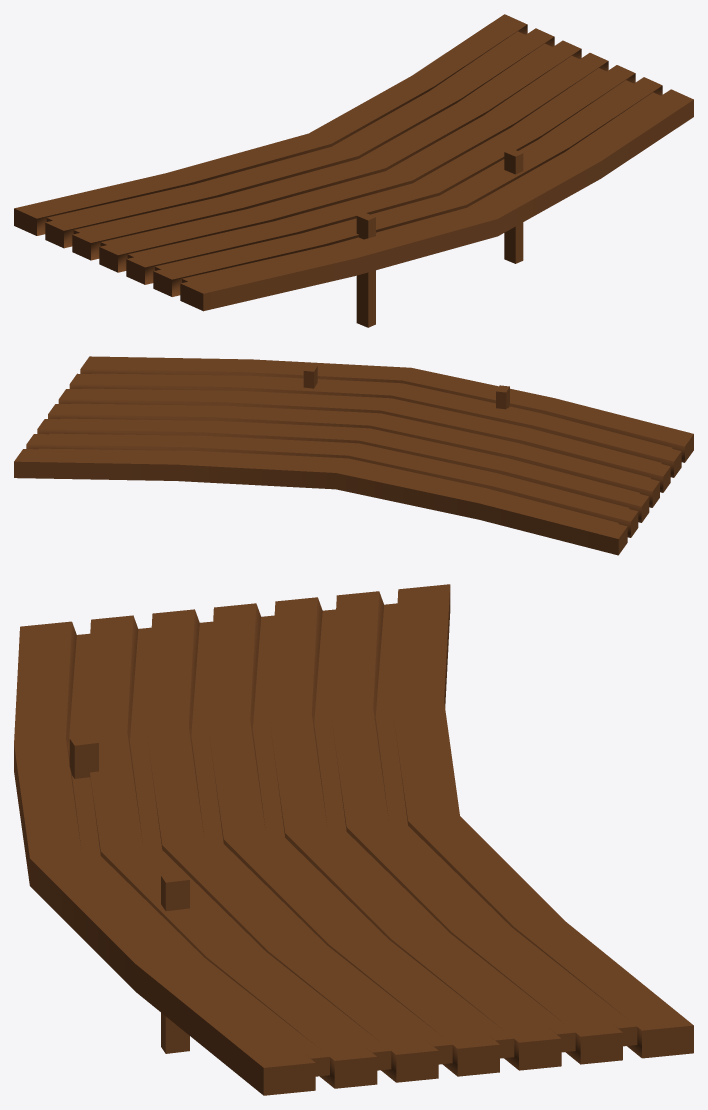
Rendered from muelle3.fbx.
3 renders of one model, top to bottom at view 1: azimuth 30°, elevation 25°; view 2: azimuth 150°, elevation 25°; view 3: azimuth 270°, elevation 25°, orthographic. The views are drawn at different scales.
Visible parts, largest first — view 1: Cube.203, Cube.204; view 2: Cube.203, Cube.204; view 3: Cube.203, Cube.204.
Part boxes in pixels (x1,y1,x2,y2): Cube.203: (14, 14, 693, 311); Cube.204: (356, 148, 523, 327); Cube.203: (14, 356, 693, 555); Cube.204: (303, 364, 509, 409); Cube.203: (14, 584, 693, 1095); Cube.204: (69, 735, 189, 1053).
Bounding box in the file's own units: 4389 × 724 × 2607.
